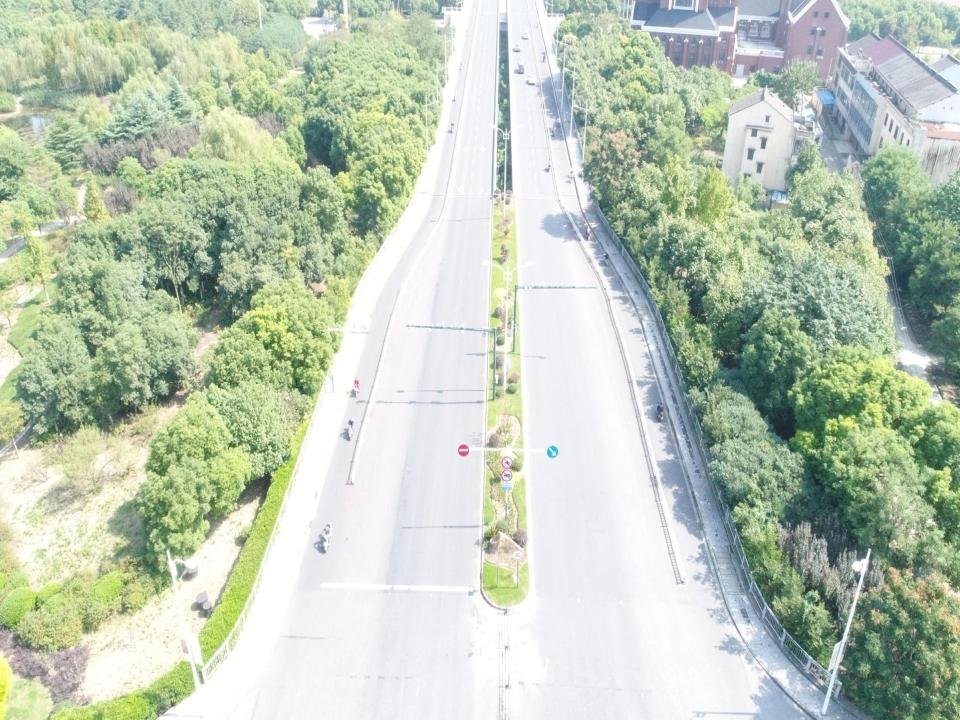car: (527, 73, 535, 85), (514, 42, 520, 53), (522, 30, 530, 38)
van: (516, 62, 524, 74)
